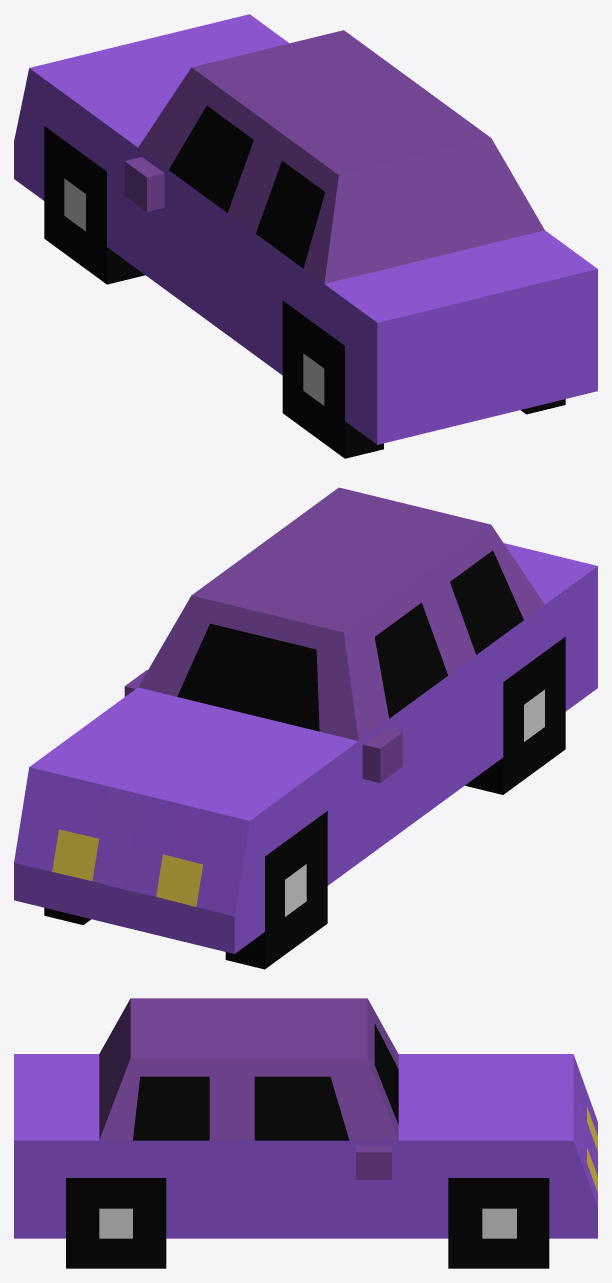
The model's file is masina.fbx.
3 renders of one model, top to bottom at view 1: azimuth 30°, elevation 25°; view 2: azimuth 150°, elevation 25°; view 3: azimuth 270°, elevation 25°, orthographic. The views are drawn at different scales.
Visible parts, largest first — view 1: Cube; view 2: Cube; view 3: Cube.
Part boxes in pixels (x1,y1,x2,y2): Cube: [14, 14, 597, 458]; Cube: [14, 487, 597, 969]; Cube: [14, 998, 597, 1268].
Size of the model in its own units: 712 by 654 by 1752.
